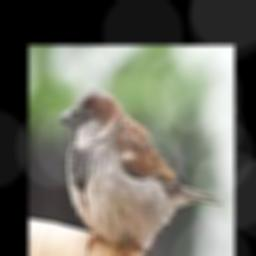Sparrow: (56, 86, 222, 256)
